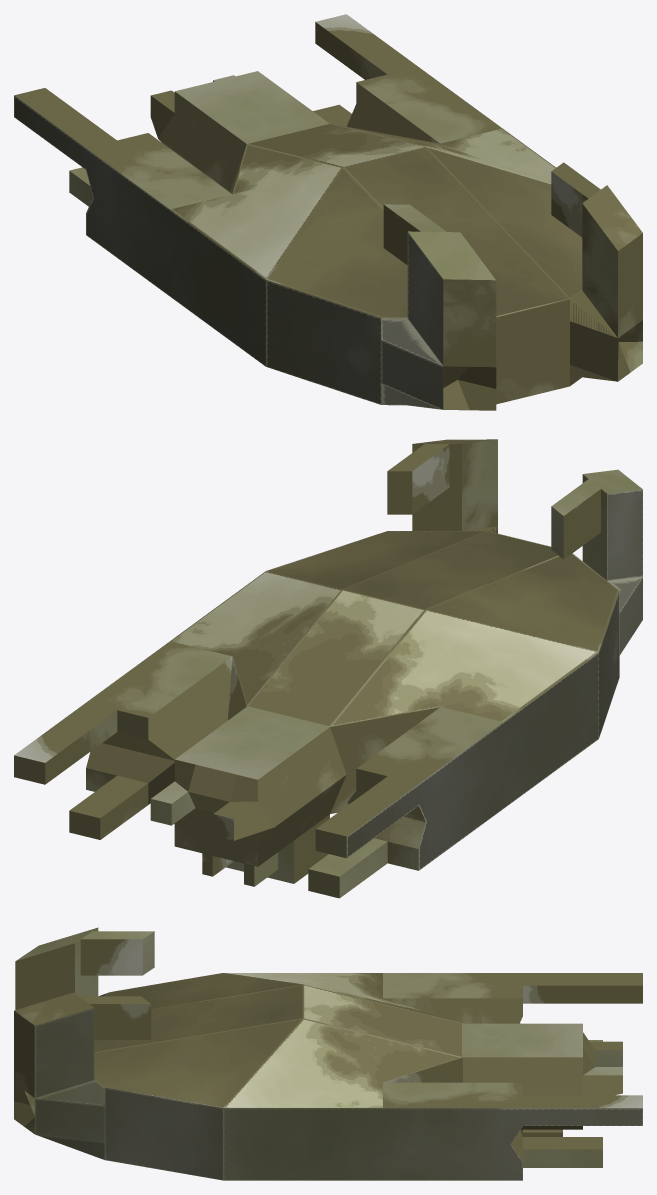
The model's file is bossStarShip.fbx.
The picture shows the model from 3 angles, top to bottom: view 1: azimuth 30°, elevation 25°; view 2: azimuth 150°, elevation 25°; view 3: azimuth 270°, elevation 25°; orthographic projection. The views are drawn at different scales.
Parts seen in each view (by area): view 1: Cube; view 2: Cube; view 3: Cube.
Part boxes in pixels (x1,y1,x2,y2): Cube: (14,14,642,410); Cube: (14,439,642,898); Cube: (14,927,642,1180).
Size of the model in its own units: 800 by 500 by 1573.
Materials: 1 (1 with a texture image).
